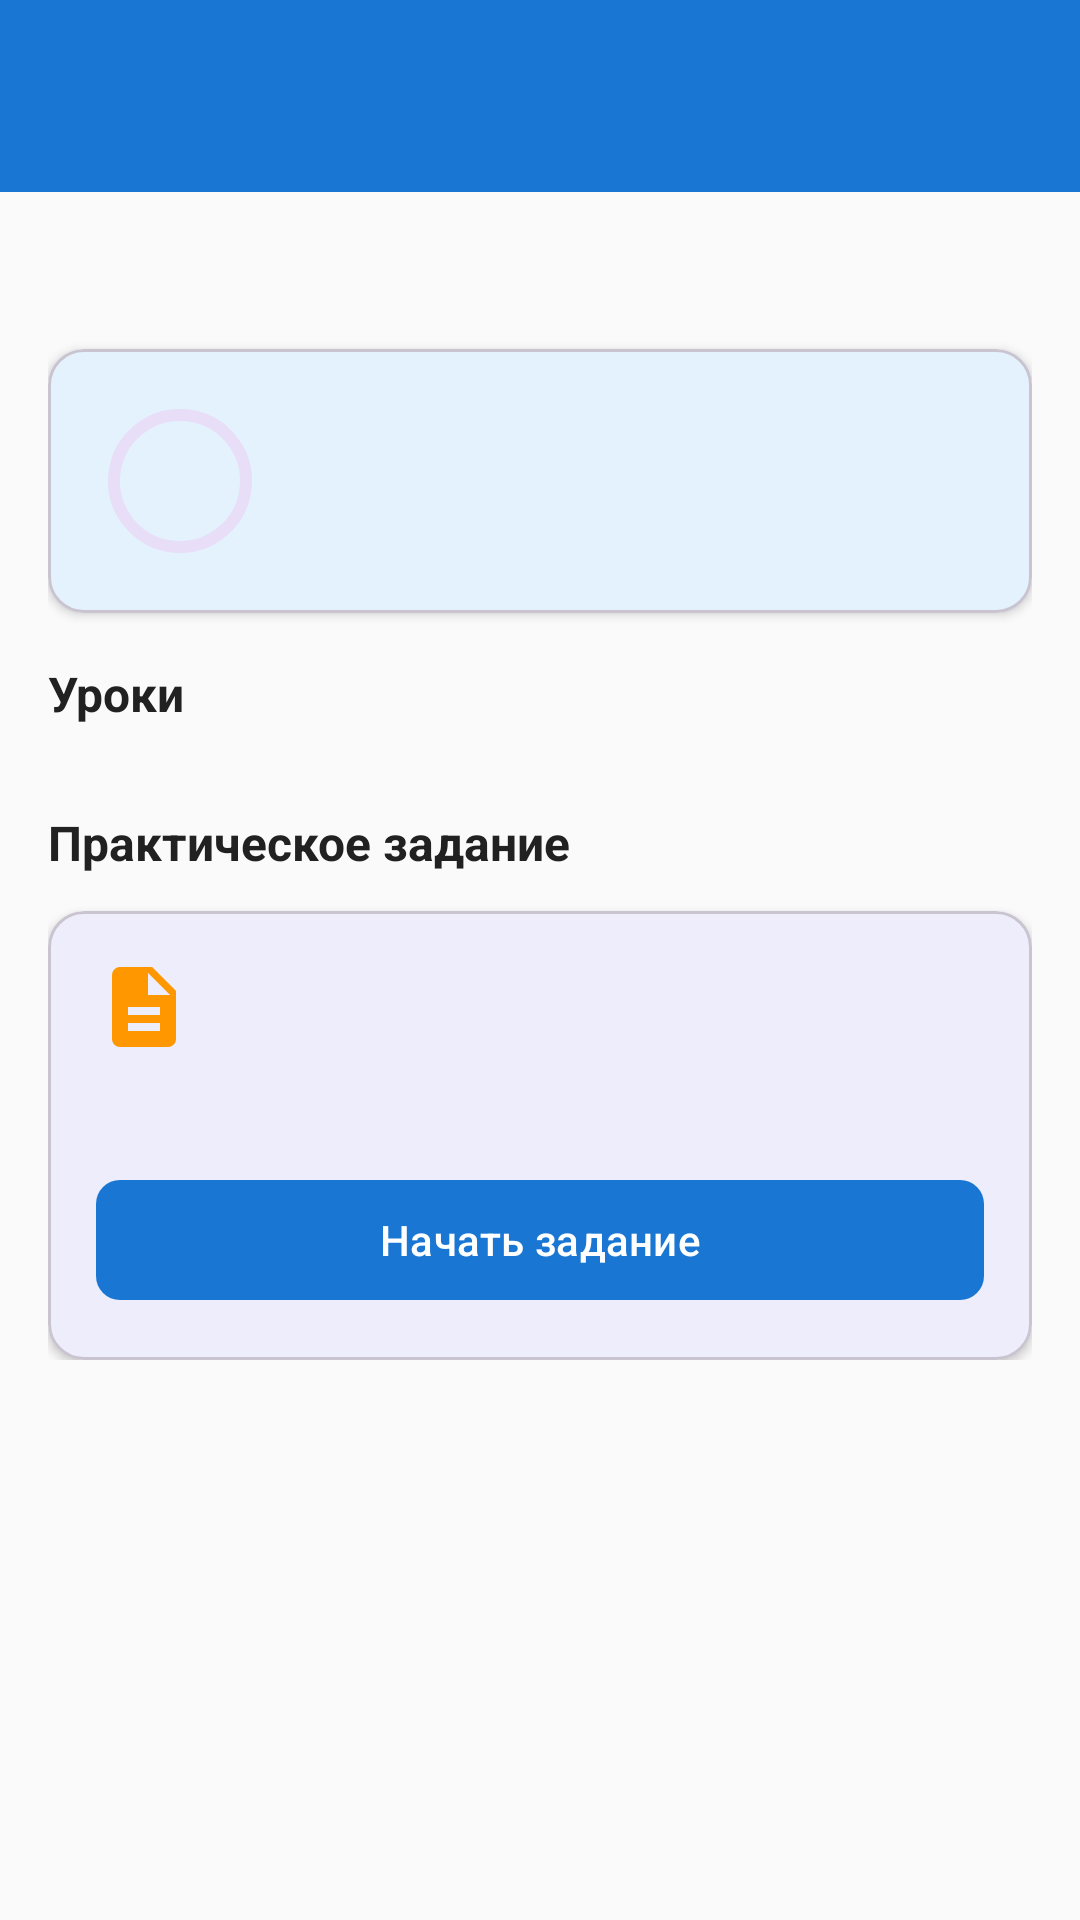

Point at icon controls on the screen. Image size 1080 x 1920, points as point (x, y).
task: point (144, 1007)
